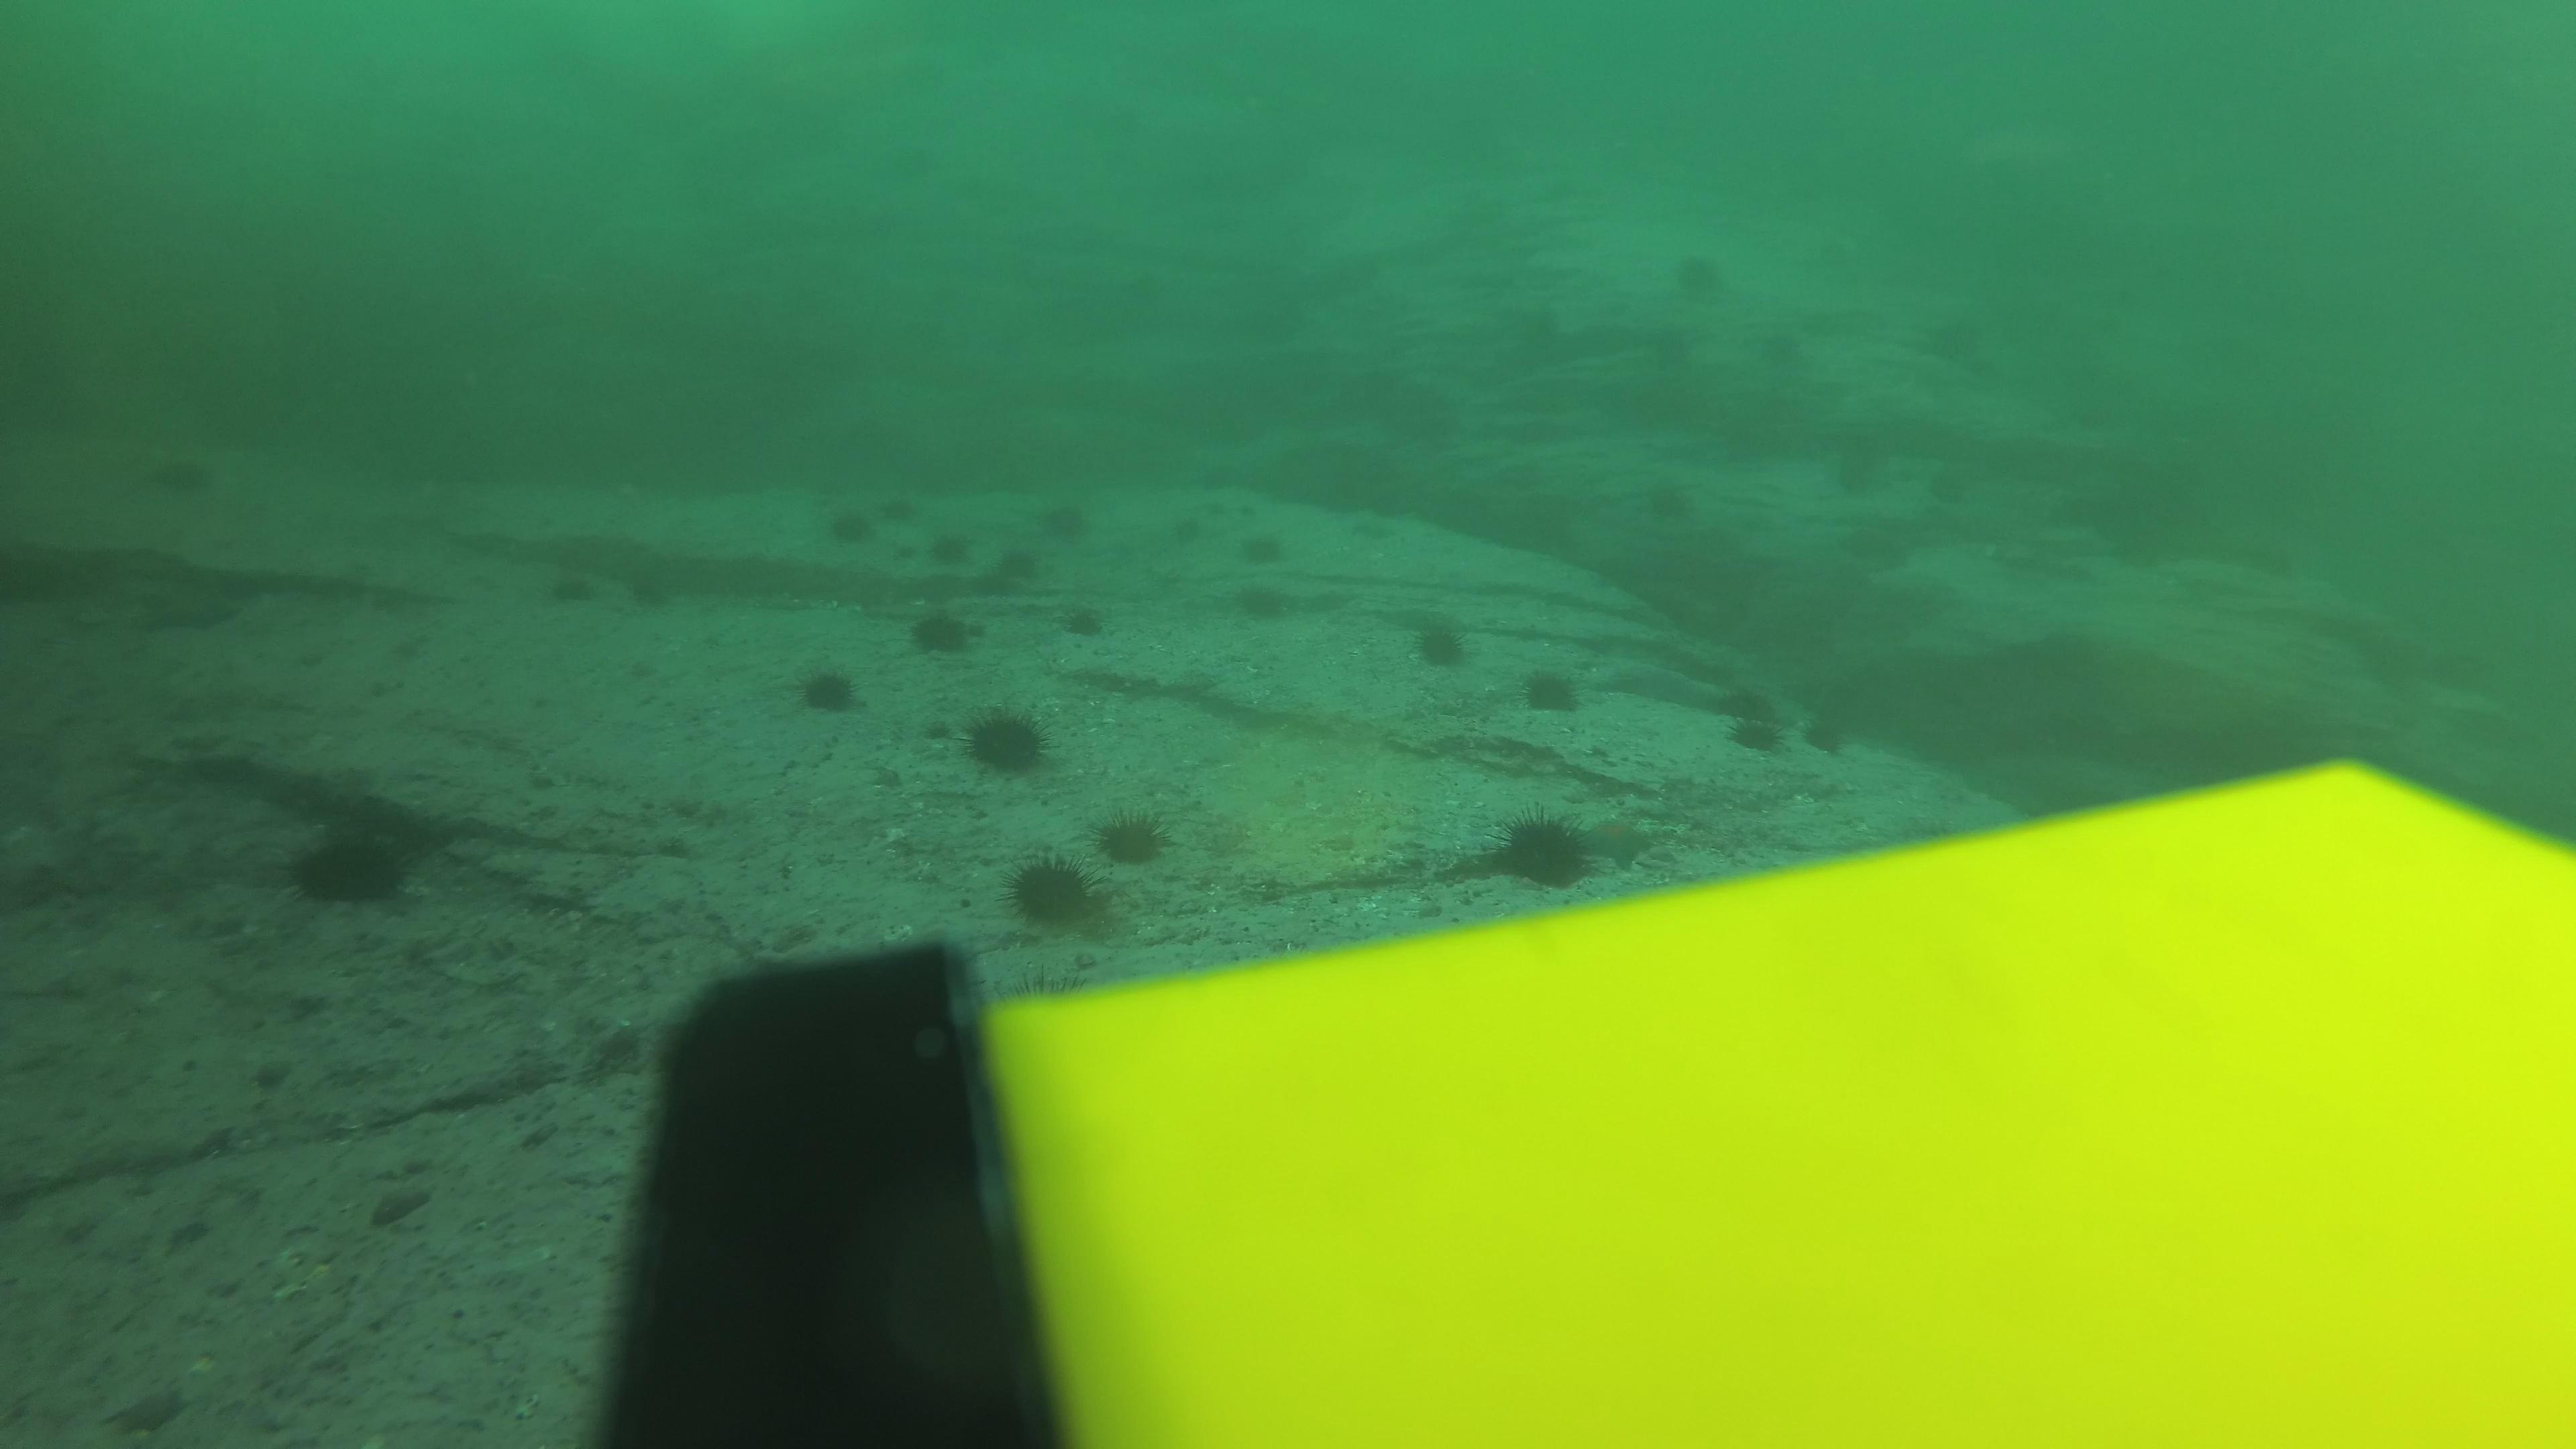echinus: (281, 819, 419, 916), (1481, 805, 1605, 893), (1000, 849, 1115, 941), (957, 699, 1054, 782), (1092, 803, 1175, 872), (1401, 607, 1477, 678), (789, 656, 865, 722), (533, 545, 609, 610), (1905, 455, 1982, 520), (1661, 241, 1737, 306), (1633, 308, 1709, 373), (1798, 223, 1874, 288), (904, 600, 982, 663), (147, 446, 225, 510), (1741, 311, 1819, 375), (1921, 292, 1999, 356), (1513, 658, 1589, 722), (617, 566, 694, 630), (1831, 517, 1907, 580), (1817, 442, 1893, 506), (1628, 464, 1704, 527), (1783, 709, 1859, 763), (1704, 674, 1780, 727), (1723, 708, 1798, 761), (1228, 571, 1295, 626), (1230, 525, 1293, 582), (821, 497, 881, 550), (1054, 598, 1113, 646), (918, 522, 970, 571), (878, 483, 929, 531), (1955, 340, 2008, 382), (994, 534, 1042, 580), (1051, 504, 1099, 550), (968, 561, 1016, 607), (1157, 510, 1205, 554)
starfish: (1571, 812, 1665, 872), (99, 1376, 191, 1437), (364, 1177, 437, 1231)
